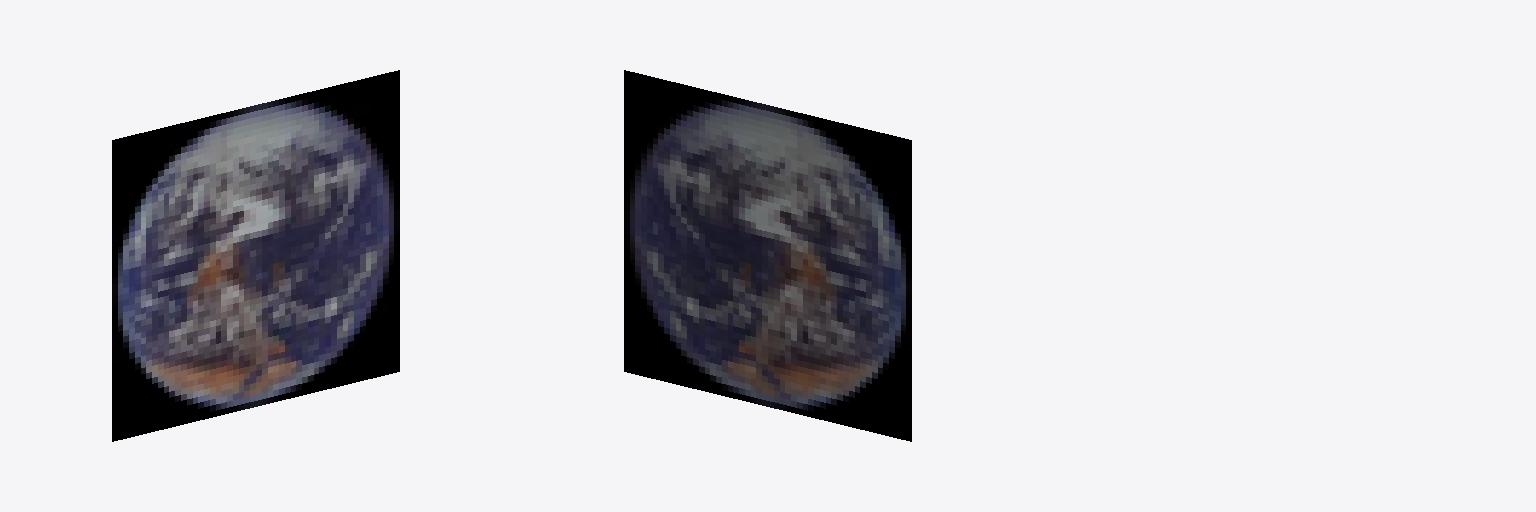
3 views of the same model, side by side, from view 1: azimuth 30°, elevation 25°; view 2: azimuth 150°, elevation 25°; view 3: azimuth 270°, elevation 25° (orthographic).
Visible parts, largest first — view 1: obj1; view 2: obj1; view 3: none.
Boxes of the visible parts, x1=… form: obj1: x1=112, y1=70, x2=399, y2=441; obj1: x1=624, y1=70, x2=911, y2=441.
Bounding box in the file's own units: 20.34 × 20.34 × 0.
1 materials, 1 textured.